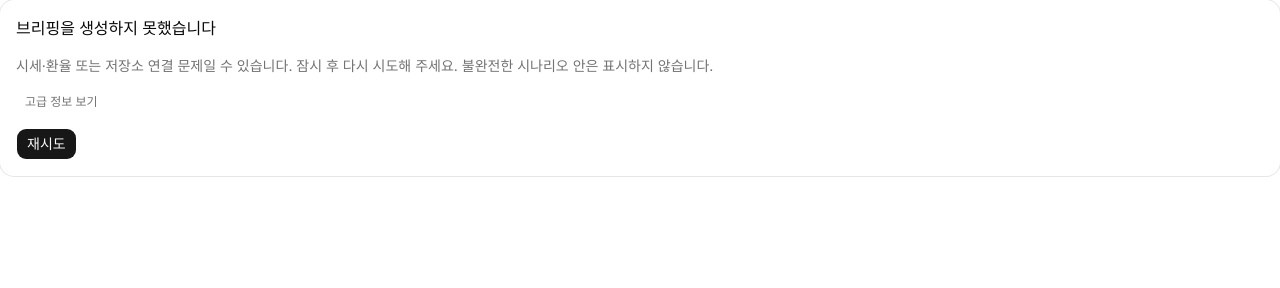
BriefingErrorState › 구조화 오류 코드·메시지·상세를 표시한다
Step 1. Click the button "고급 정보 보기" → x=61, y=102, box [16,88,107,116]
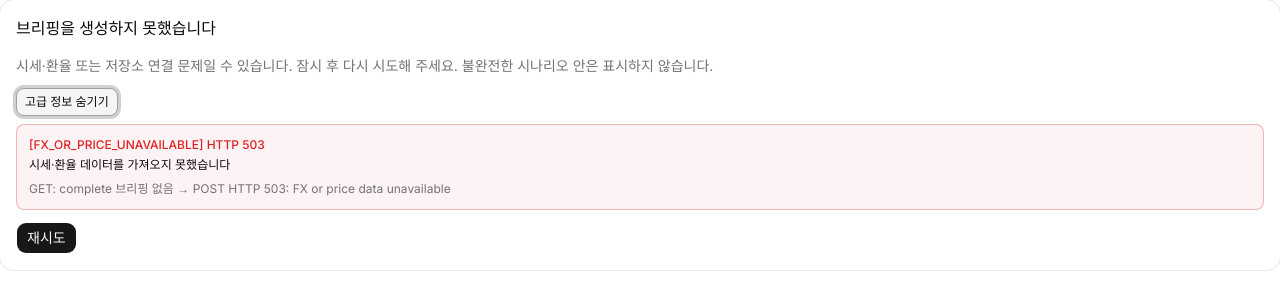
Result: the message with test id "briefing-error-detail" shows "FX_OR_PRICE_UNAVAILABLE" at [33,137,199,152]
Result: the message with test id "briefing-error-detail" shows "HTTP 503" at [204,137,265,152]
Result: the message with test id "briefing-error-detail" shows "시세·환율" at [29,157,230,172]
